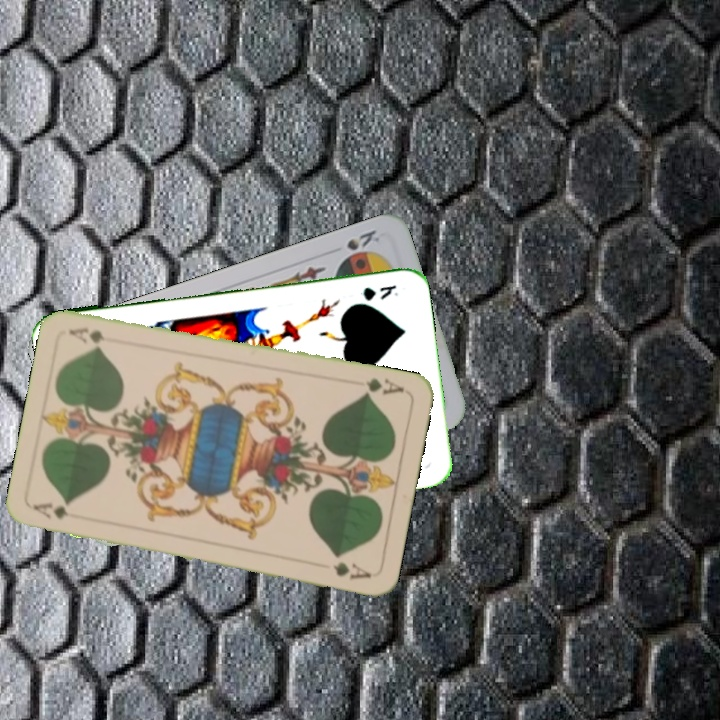GA: (29, 498, 88, 522), (360, 374, 407, 399)
GK: (355, 281, 400, 303)
SK: (342, 226, 383, 253)
